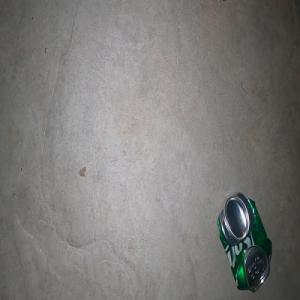SodaCan: (217, 191, 272, 292)
